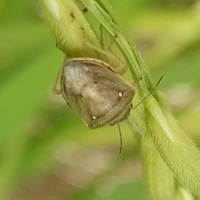insect: (53, 58, 135, 127)
